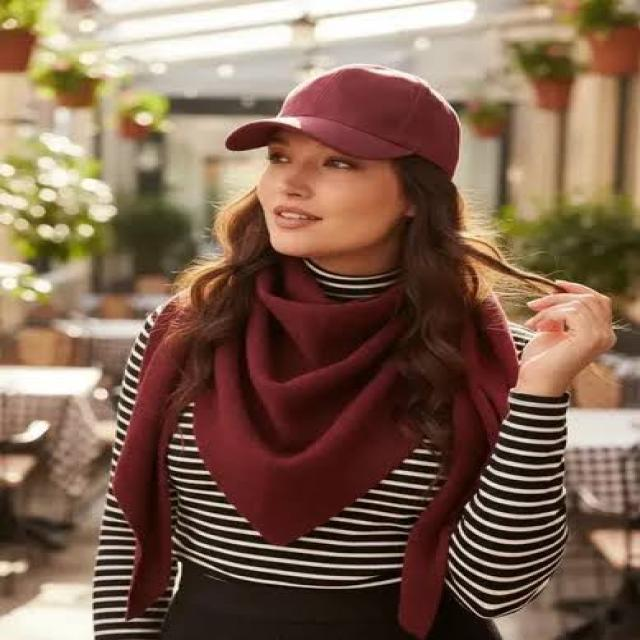Gorra: (218, 62, 469, 188)
